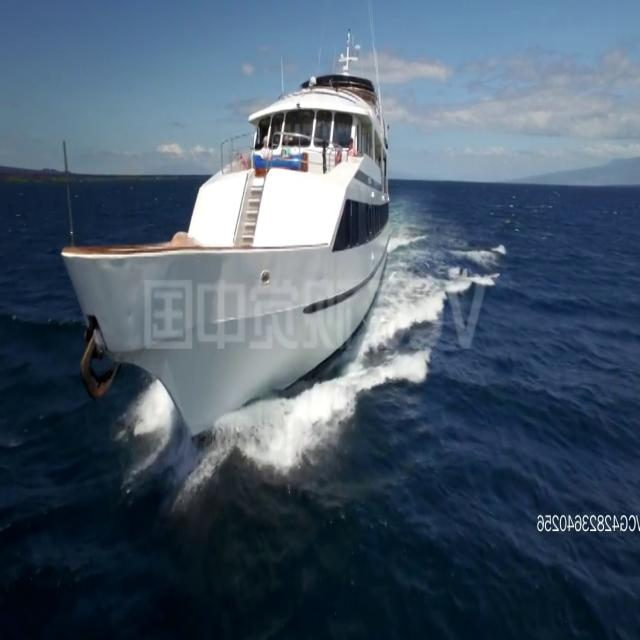houseboat: (61, 62, 394, 438)
